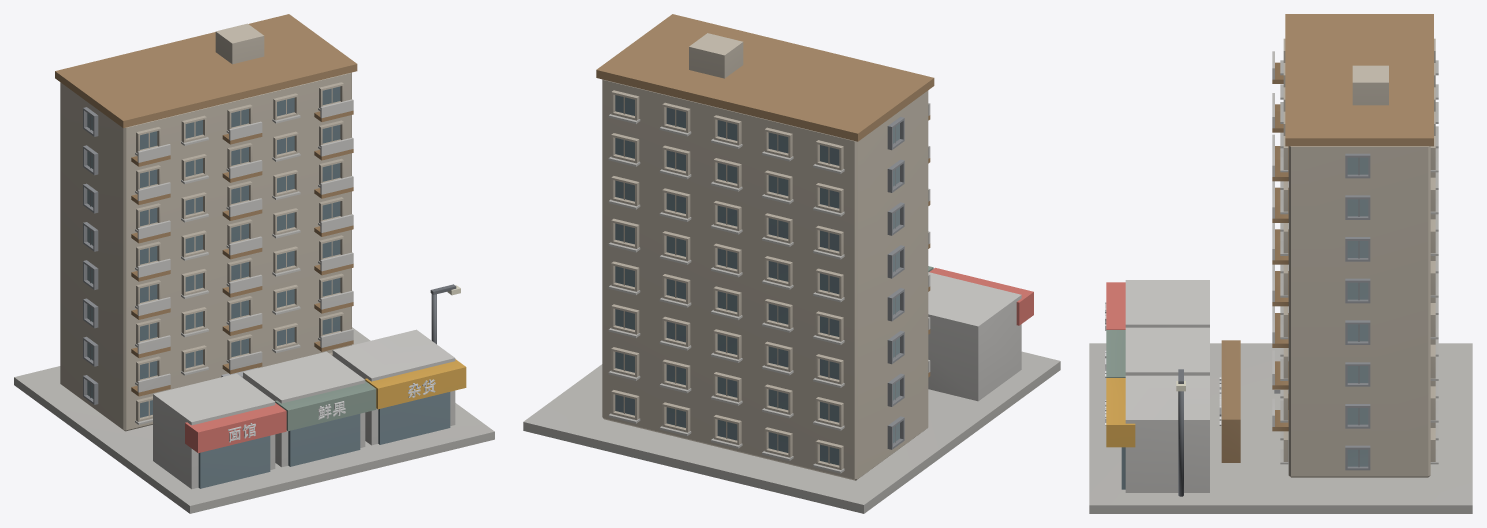
The model's file is market-estate.glb.
3 renders of one model, left to right at view 1: azimuth 30°, elevation 25°; view 2: azimuth 150°, elevation 25°; view 3: azimuth 270°, elevation 25°, orthographic. The views are drawn at different scales.
Visible parts, largest first — view 1: market-estate; view 2: market-estate; view 3: market-estate.
Part boxes in pixels (box(x1,y1,x2,y2)): market-estate: box(14, 14, 494, 513); market-estate: box(523, 14, 1060, 513); market-estate: box(1089, 14, 1472, 513).
Size of the model in its own units: 2.04 by 2.14 by 2.
